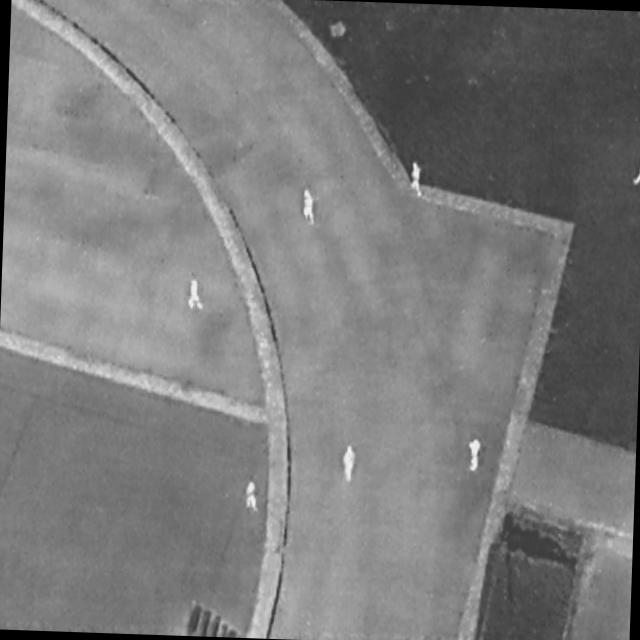person: (408, 161, 427, 198), (466, 436, 484, 472), (342, 445, 358, 485), (186, 279, 205, 311), (243, 481, 261, 514), (301, 187, 317, 224), (634, 153, 640, 187)
